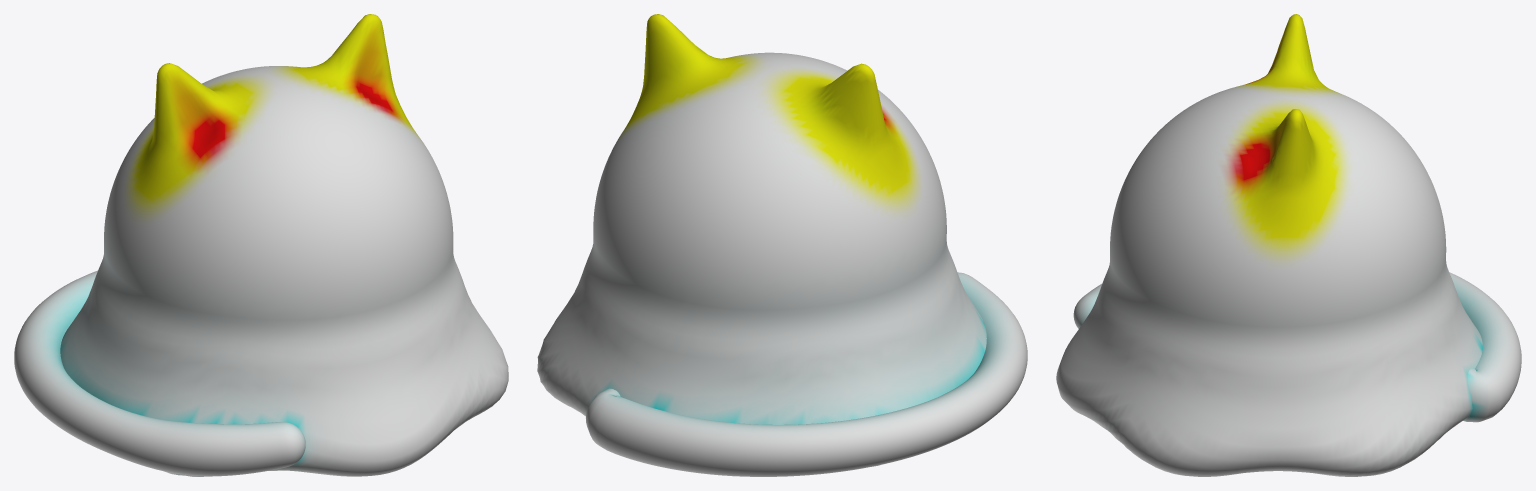
The model's file is cat_obake_curl.glb.
3 views of the same model, side by side, from view 1: azimuth 30°, elevation 25°; view 2: azimuth 150°, elevation 25°; view 3: azimuth 270°, elevation 25° (orthographic). The views are drawn at different scales.
Parts seen in each view (by area): view 1: Body, Tail; view 2: Body, Tail; view 3: Body, Tail.
Boxes of the visible parts, bbox=[...] form: Body: bbox=[60, 14, 508, 476]; Tail: bbox=[14, 270, 305, 476]; Body: bbox=[537, 14, 986, 466]; Tail: bbox=[586, 272, 1027, 476]; Body: bbox=[1056, 14, 1482, 476]; Tail: bbox=[1073, 272, 1521, 422].
Size of the model in its own units: 1.37 by 1.12 by 1.38.
